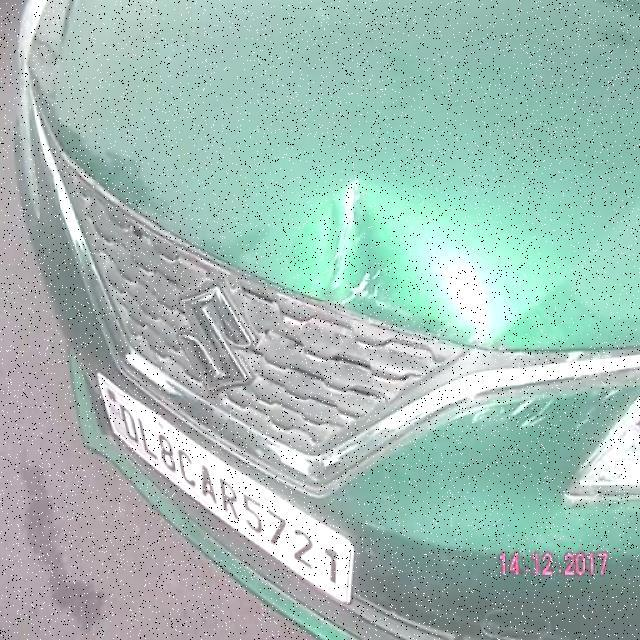car damage: (319, 182, 411, 324), (462, 395, 559, 430), (572, 394, 615, 430)
